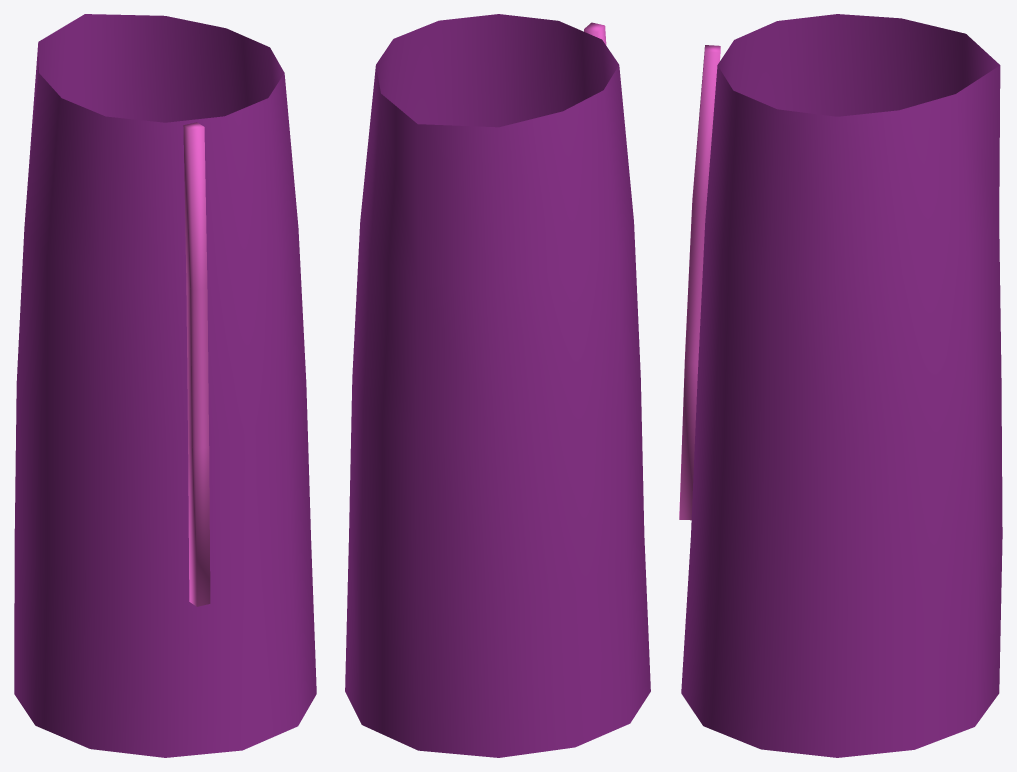
The model's file is nebula_armor_greave.R.glb.
3 views of the same model, side by side, from view 1: azimuth 30°, elevation 25°; view 2: azimuth 150°, elevation 25°; view 3: azimuth 270°, elevation 25° (orthographic).
Visible parts, largest first — view 1: nebula_armor_greave.R; view 2: nebula_armor_greave.R; view 3: nebula_armor_greave.R.
Part boxes in pixels (<box>): nebula_armor_greave.R: <box>14,14,316,757</box>; nebula_armor_greave.R: <box>345,14,650,757</box>; nebula_armor_greave.R: <box>679,14,1002,757</box>.
Bounding box in the file's own units: 0.1656 × 0.3771 × 0.1756.
